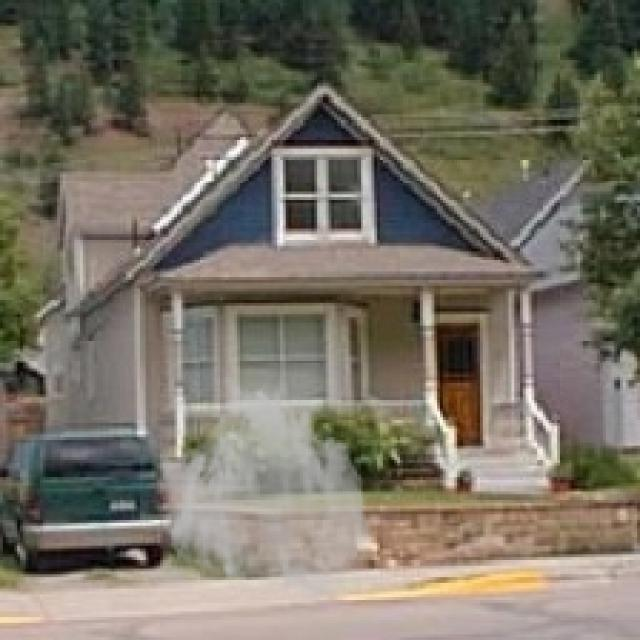smoke: (152, 371, 374, 603)
